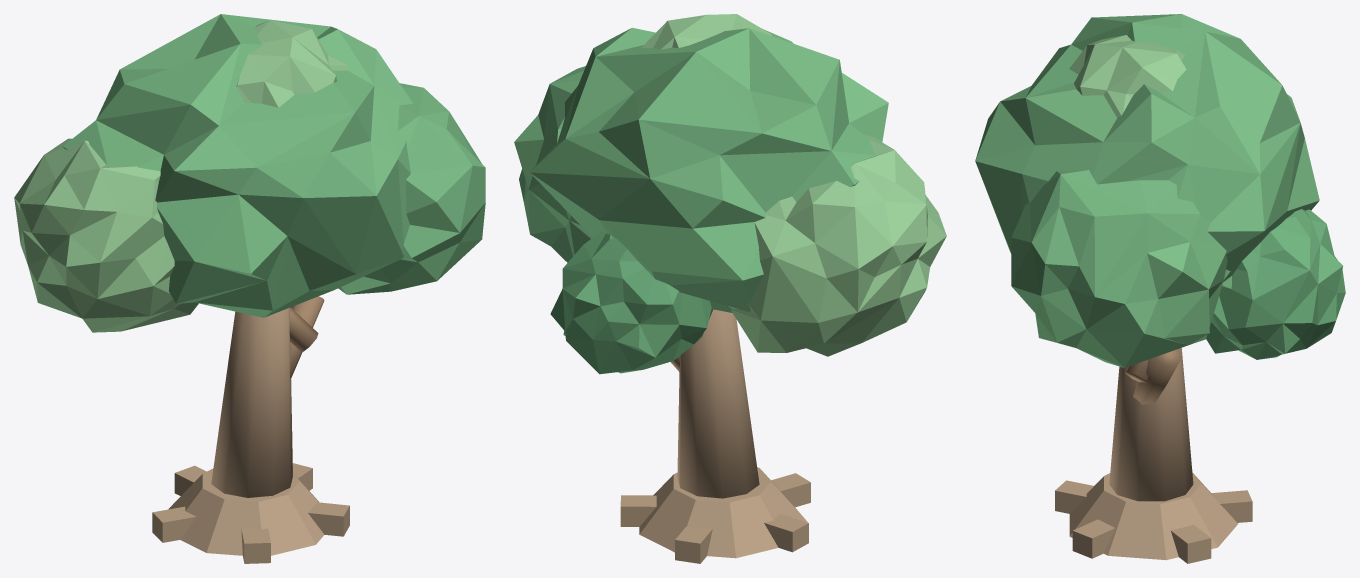
Rendered from Tree_A_01_LOD1.glb.
The picture shows the model from 3 angles, left to right: view 1: azimuth 30°, elevation 25°; view 2: azimuth 150°, elevation 25°; view 3: azimuth 270°, elevation 25°; orthographic projection.
Parts seen in each view (by area): view 1: BW_TreeA_V01_Canopy_01_LOD1, BW_TreeA_V01_Canopy_02_LOD1, BW_TreeA_V01_Canopy_03_LOD1, BW_TreeA_V01_Trunk_LOD1, BW_TreeA_V01_Roots_LOD1, BW_TreeA_V01_Canopy_04_LOD1, BW_TreeA_V01_Branches_LOD1; view 2: BW_TreeA_V01_Canopy_01_LOD1, BW_TreeA_V01_Canopy_02_LOD1, BW_TreeA_V01_Canopy_05_LOD1, BW_TreeA_V01_Trunk_LOD1, BW_TreeA_V01_Roots_LOD1, BW_TreeA_V01_Canopy_03_LOD1, BW_TreeA_V01_Canopy_04_LOD1; view 3: BW_TreeA_V01_Canopy_01_LOD1, BW_TreeA_V01_Canopy_03_LOD1, BW_TreeA_V01_Canopy_05_LOD1, BW_TreeA_V01_Roots_LOD1, BW_TreeA_V01_Trunk_LOD1, BW_TreeA_V01_Canopy_04_LOD1, BW_TreeA_V01_Branches_LOD1.
Boxes of the visible parts, x1,y1,x2,y2 form: BW_TreeA_V01_Canopy_01_LOD1: (63,14,412,317); BW_TreeA_V01_Canopy_02_LOD1: (14,138,198,332); BW_TreeA_V01_Canopy_03_LOD1: (338,83,485,294); BW_TreeA_V01_Trunk_LOD1: (211,308,292,497); BW_TreeA_V01_Roots_LOD1: (152,463,349,563); BW_TreeA_V01_Canopy_04_LOD1: (236,20,347,107); BW_TreeA_V01_Branches_LOD1: (289,296,324,378); BW_TreeA_V01_Canopy_01_LOD1: (530,27,888,312); BW_TreeA_V01_Canopy_02_LOD1: (731,135,946,356); BW_TreeA_V01_Canopy_05_LOD1: (550,230,713,374); BW_TreeA_V01_Trunk_LOD1: (677,309,759,498); BW_TreeA_V01_Roots_LOD1: (620,467,810,563); BW_TreeA_V01_Canopy_03_LOD1: (514,66,592,262); BW_TreeA_V01_Canopy_04_LOD1: (642,14,772,49); BW_TreeA_V01_Canopy_01_LOD1: (975,14,1319,288); BW_TreeA_V01_Canopy_03_LOD1: (1011,170,1230,367); BW_TreeA_V01_Canopy_05_LOD1: (1206,209,1345,359); BW_TreeA_V01_Roots_LOD1: (1055,472,1252,563); BW_TreeA_V01_Trunk_LOD1: (1109,348,1193,501); BW_TreeA_V01_Canopy_04_LOD1: (1069,35,1186,117); BW_TreeA_V01_Branches_LOD1: (1125,349,1182,404).
Size of the model in its own units: 4.32 by 4.84 by 3.3.
